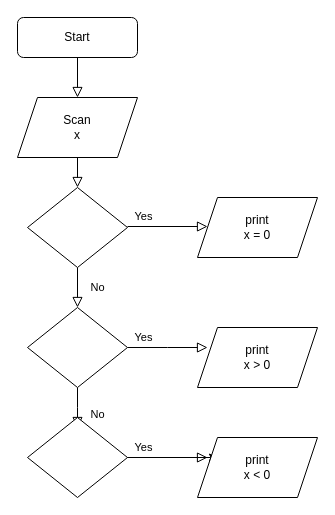
This 335x515 diagram has some shape labels left out. Each missing label, with the centre of its shape:
"if x < 0" belongs at point 77,457.
"if x == 0" belongs at point 77,227.
"if x > 0" belongs at point 77,347.
